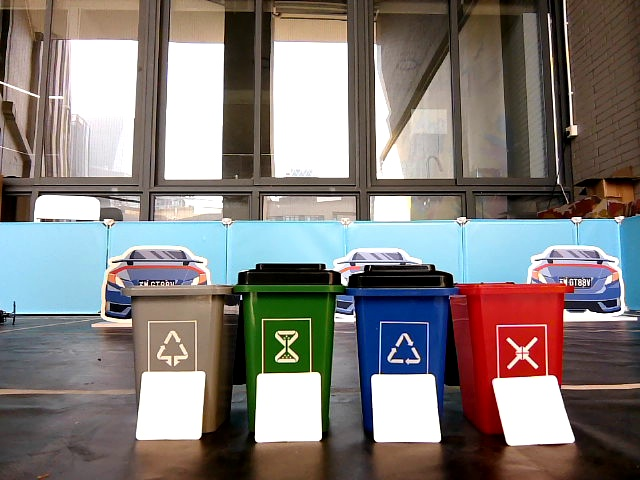blue_close: (354, 264, 442, 369)
green_close: (246, 263, 327, 366)
grey_open: (132, 288, 226, 372)
red_open: (468, 284, 559, 373)
